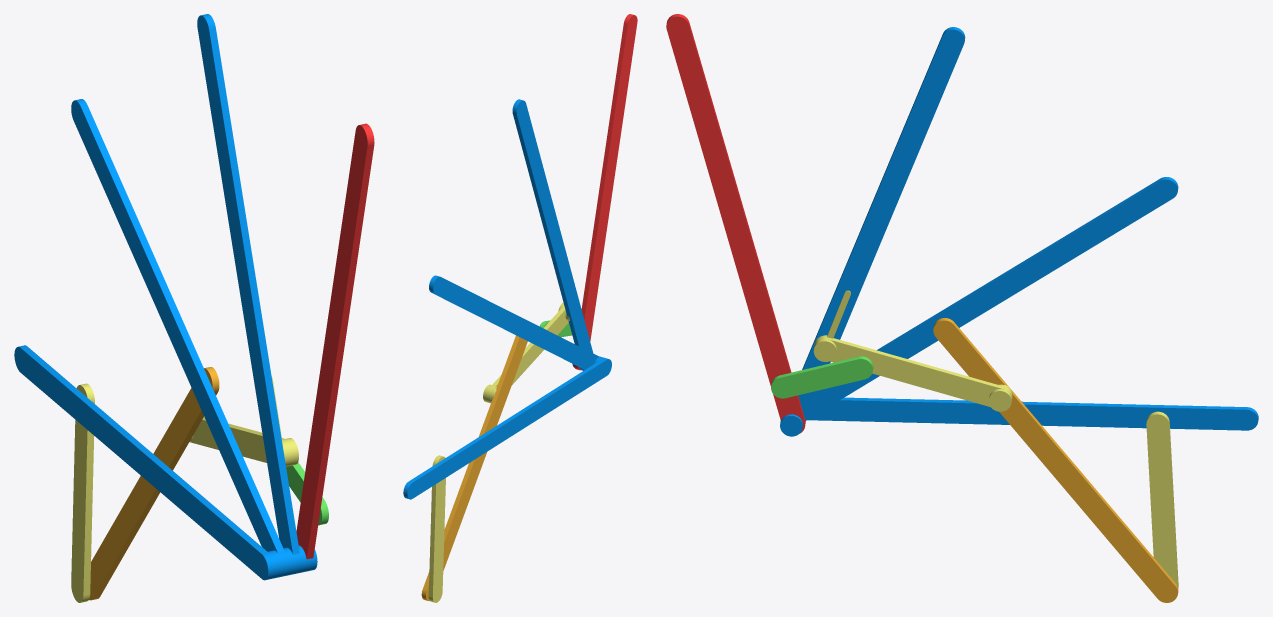
The picture shows the model from 3 angles, left to right: view 1: azimuth 30°, elevation 25°; view 2: azimuth 150°, elevation 25°; view 3: azimuth 270°, elevation 25°; orthographic projection. The views are drawn at different scales.
Parts seen in each view (by area): view 1: rising, diagonal, red, horizontal, ochre, olive_end, olive_cross, joining_axle, green; view 2: red, horizontal, rising, diagonal, ochre, olive_end, olive_cross; view 3: red, horizontal, diagonal, rising, ochre, olive_cross, olive_end, green.
Boxes of the visible parts, x1,y1,x2,y2 form: rising: (197,14,299,554); diagonal: (71,99,284,553); red: (296,123,374,559); horizontal: (14,345,268,579); ochre: (89,367,219,600); olive_end: (71,383,94,602); olive_cross: (189,417,298,466); joining_axle: (262,545,317,580); green: (286,462,328,525); red: (573,14,637,370); horizontal: (403,358,611,499); rising: (512,99,592,370); diagonal: (429,275,599,369); ochre: (421,335,527,600); olive_end: (428,455,445,602); olive_cross: (483,302,569,403); red: (666,14,805,433); horizontal: (807,397,1258,430); diagonal: (806,177,1178,420); rising: (798,27,965,421); ochre: (933,318,1178,602); olive_cross: (813,335,1012,411); olive_end: (1146,411,1178,587); green: (771,356,873,398).
Bounding box in the file's own units: 0.0468 × 0.5 × 0.4638.
